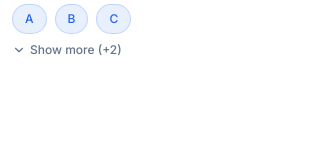
SuggestedPromptChips › pins the clicked prompt as visible and collapses the list
Click the button "Show more (+2)". click: (67, 50)
box: [12, 42, 122, 58]
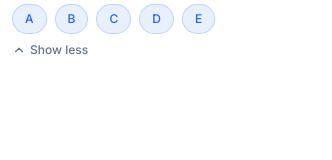
Click the button "D". click: (157, 19)
box: [139, 4, 174, 34]
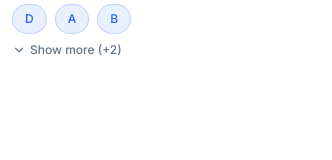
Expected: the button "C" is gone
Expected: the button "Show less" is gone
Expected: the button "Show more (+2)" is shown, [12, 42, 122, 58]
